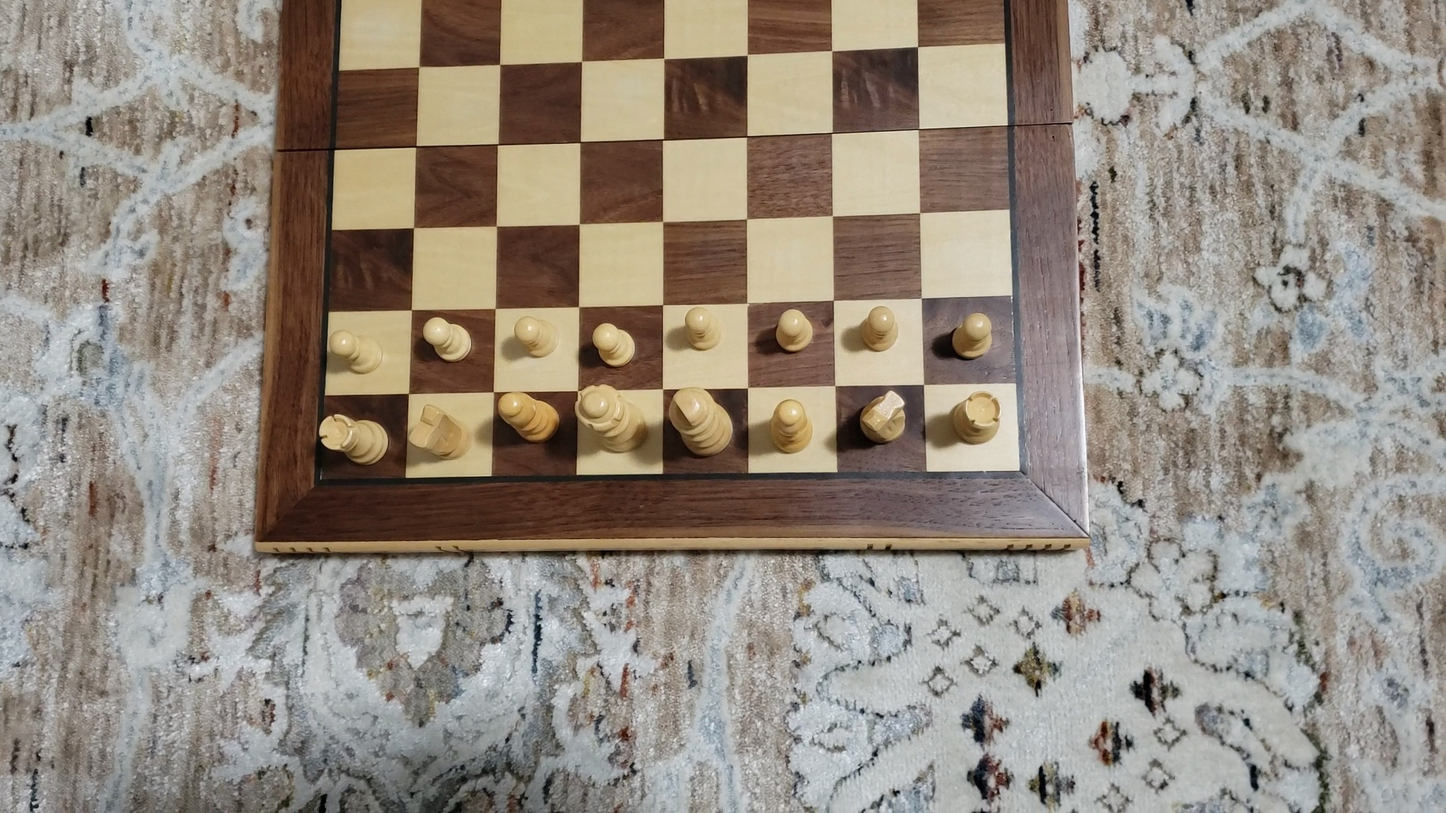white-bishop: (494, 391, 559, 445), (768, 395, 816, 456)
white-king: (670, 386, 733, 460)
white-knight: (409, 404, 471, 464), (853, 388, 910, 447)
white-pawn: (944, 307, 999, 364), (328, 326, 386, 376), (420, 313, 474, 364), (855, 301, 903, 356), (588, 319, 639, 369), (770, 305, 818, 357), (678, 303, 725, 353), (511, 313, 559, 361)
white-queen: (573, 381, 650, 456)
white-rook: (318, 411, 389, 467), (949, 388, 1005, 447)
